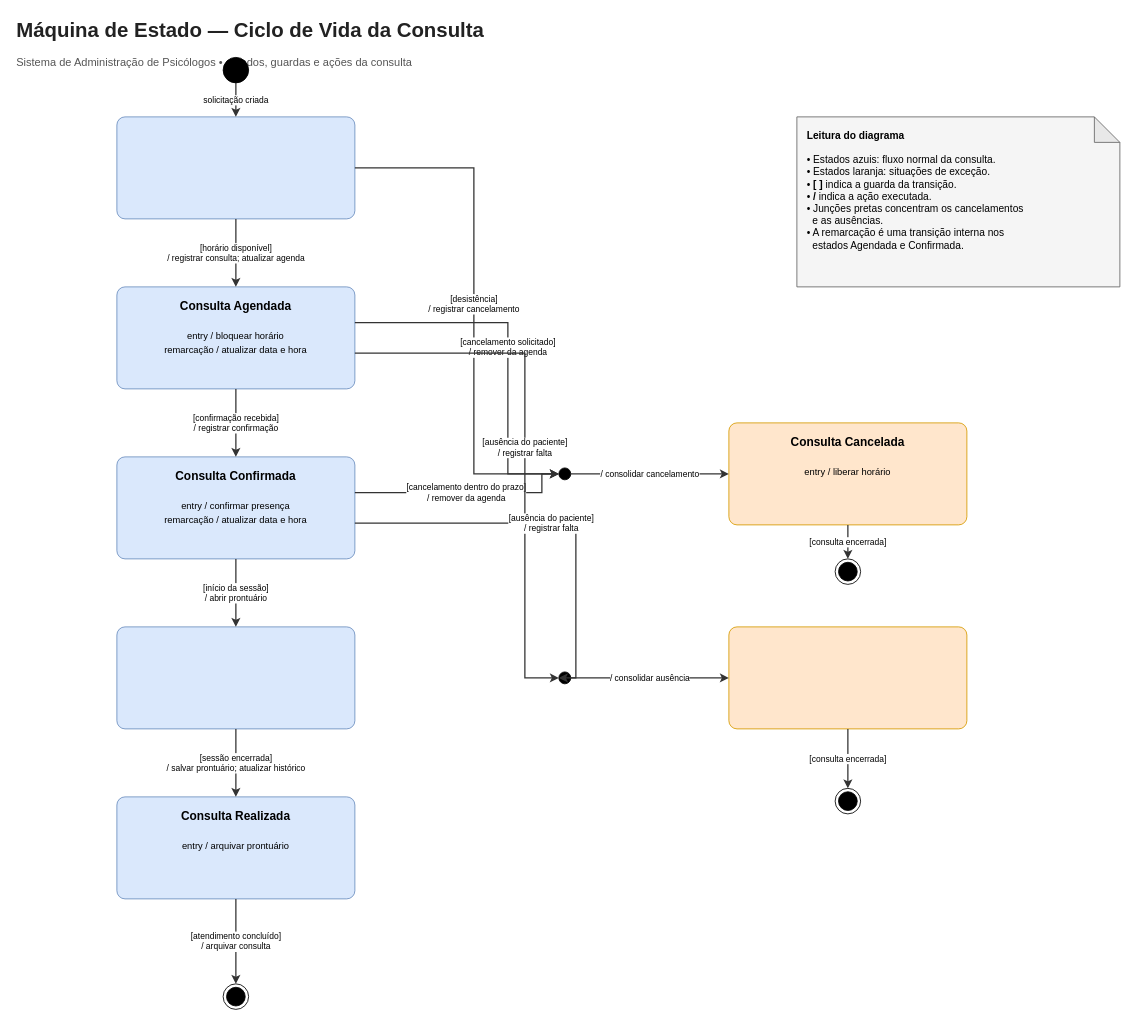
Some shapes in this 1135 by 1024 pixel diagram are drawn without their labels. The centre of each missing label's shape, as x and y in pixels:
"Consulta Solicitada entry / registrar solicitação" belongs at point (235, 167).
"Em Atendimento do / registrar evolução da sessão" belongs at point (235, 677).
"Não Compareceu entry / registrar falta" belongs at point (847, 677).
